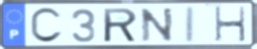3: (70, 8, 97, 43)
C: (29, 6, 65, 45)
H: (213, 6, 248, 44)
I: (183, 5, 196, 44)
N: (139, 6, 175, 43)
R: (101, 7, 139, 44)
